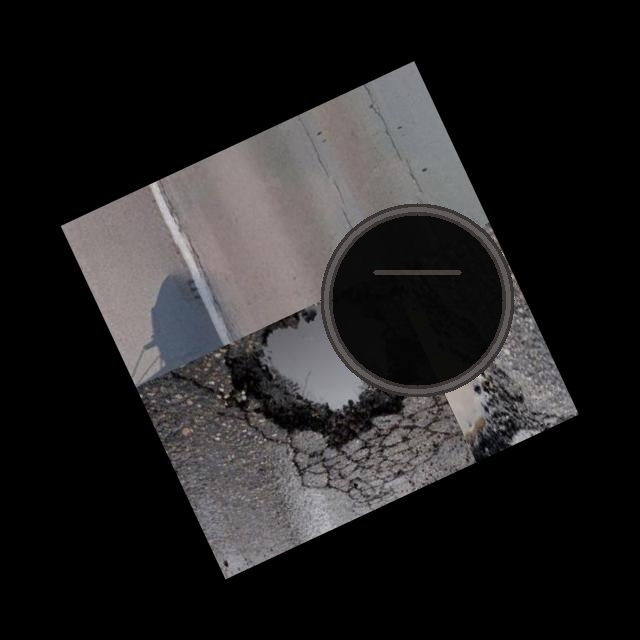open_manhole: (317, 200, 517, 400)
